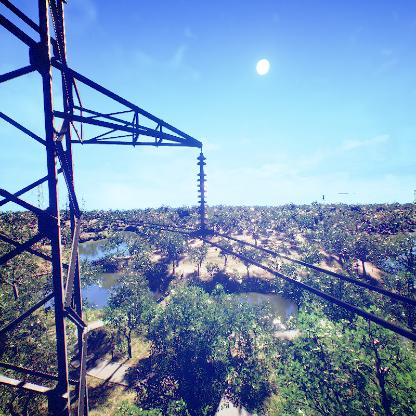insulator: (195, 154, 208, 230)
